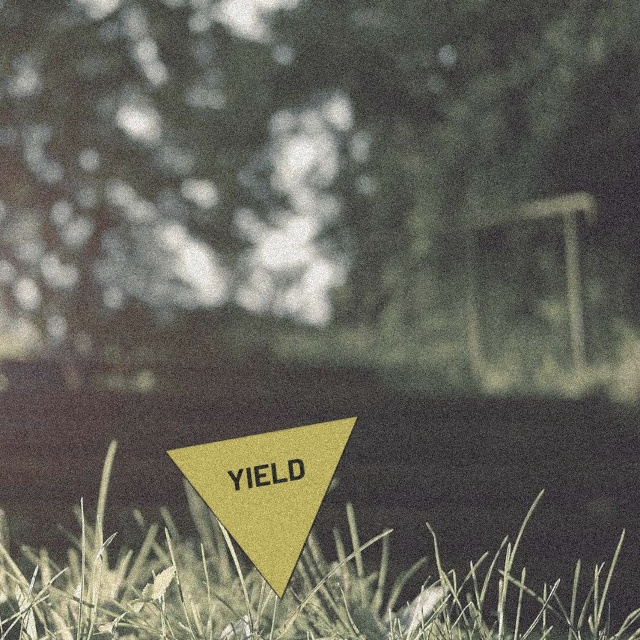YIELD: (163, 415, 360, 601)
